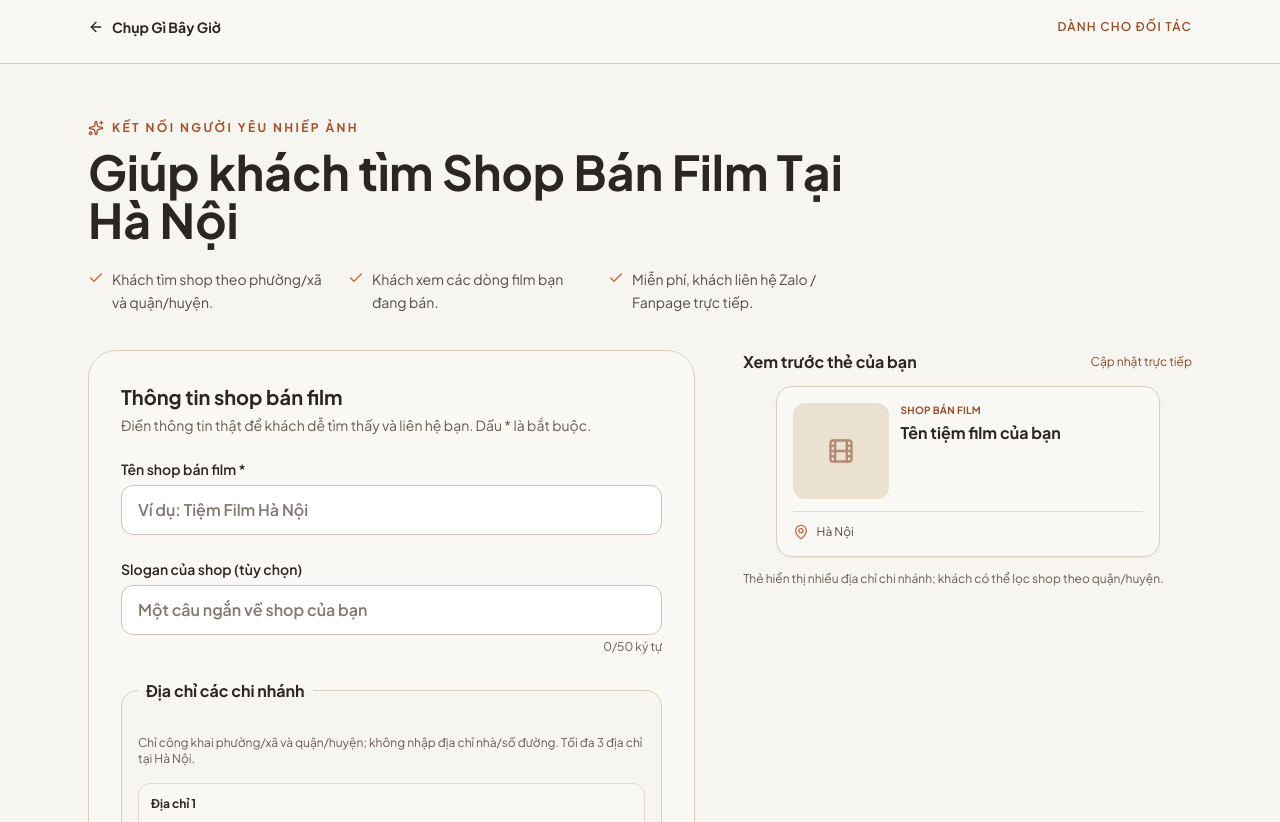
Test case: partner onboarding pages › shows only film retail fields and preview as the shop types
This screenshot has width=1280, height=822.
Check: the heading "Giúp khách tìm Shop Bán Film Tại Hà Nội" is shown, box x1=88 y1=148 x2=856 y2=244
Step 1. Type "Film Mùa Thu" into the field labelled "Tên shop bán film *" → (392, 510), box x1=121 y1=484 x2=662 y2=534
(page scrolled)
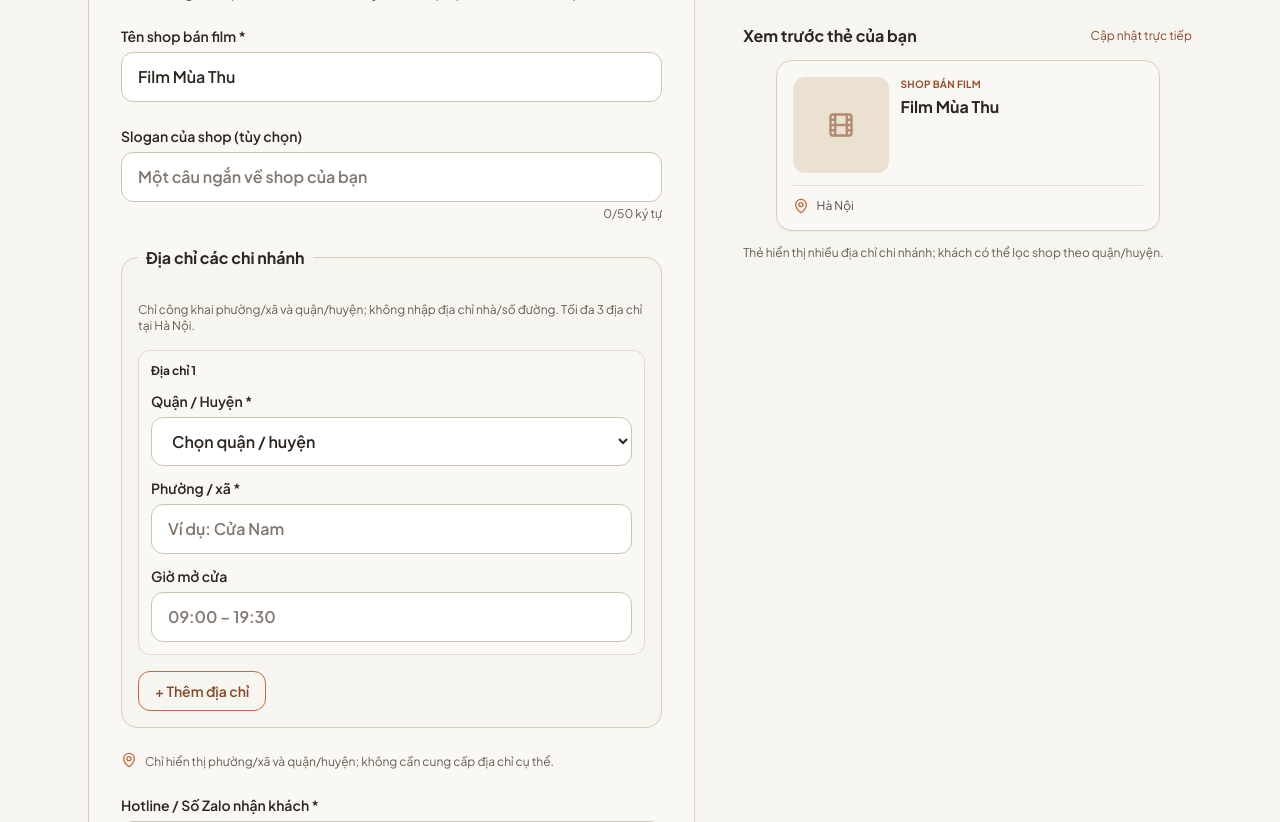
Check: the element with test id "partner-preview" shows "Shop bán film", box x1=901 y1=77 x2=981 y2=89
Check: the element with test id "partner-preview" shows "Film Mùa Thu", box x1=901 y1=95 x2=999 y2=116
